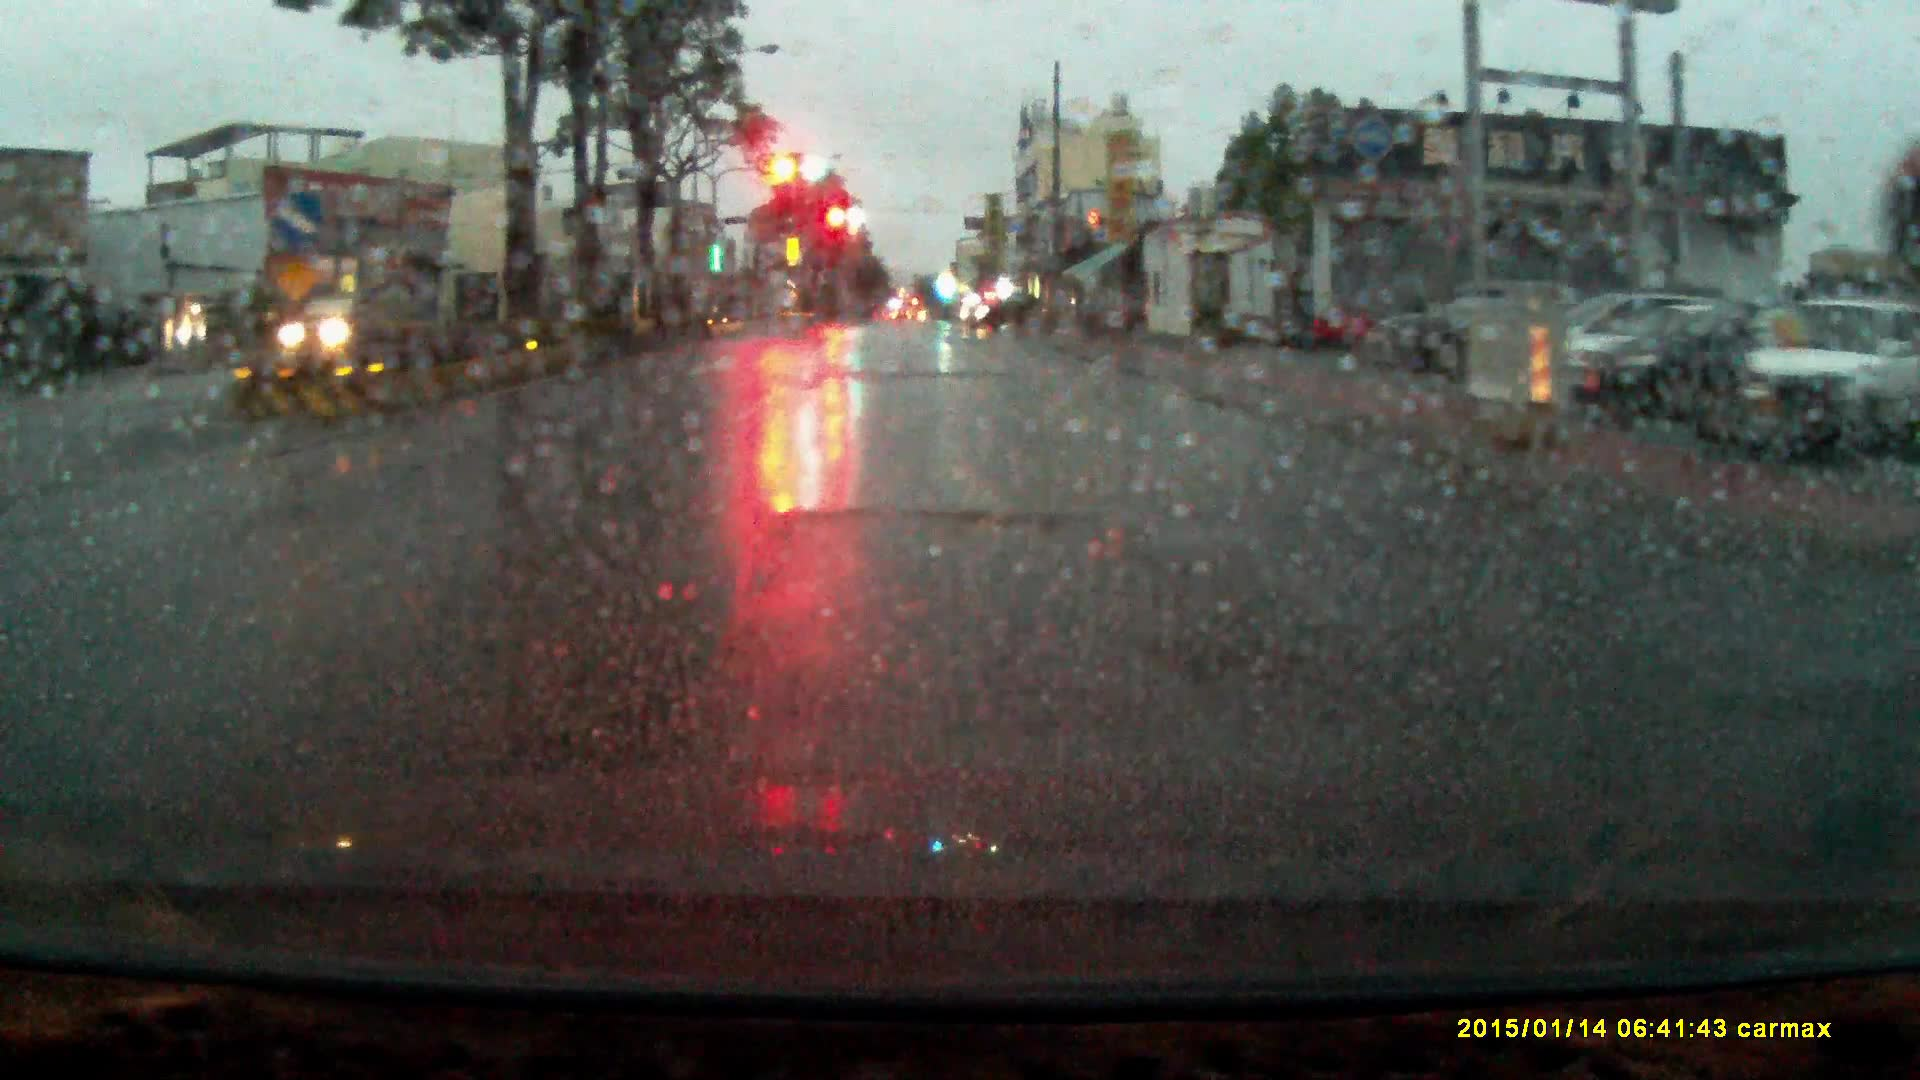vehicle: (1572, 298, 1793, 414), (1576, 297, 1762, 392), (1373, 290, 1509, 376), (280, 295, 385, 361), (960, 291, 1039, 328)
